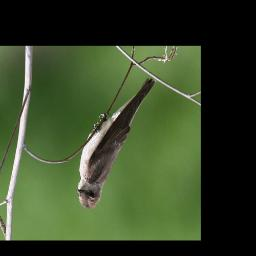Swallow: (76, 76, 158, 210)
